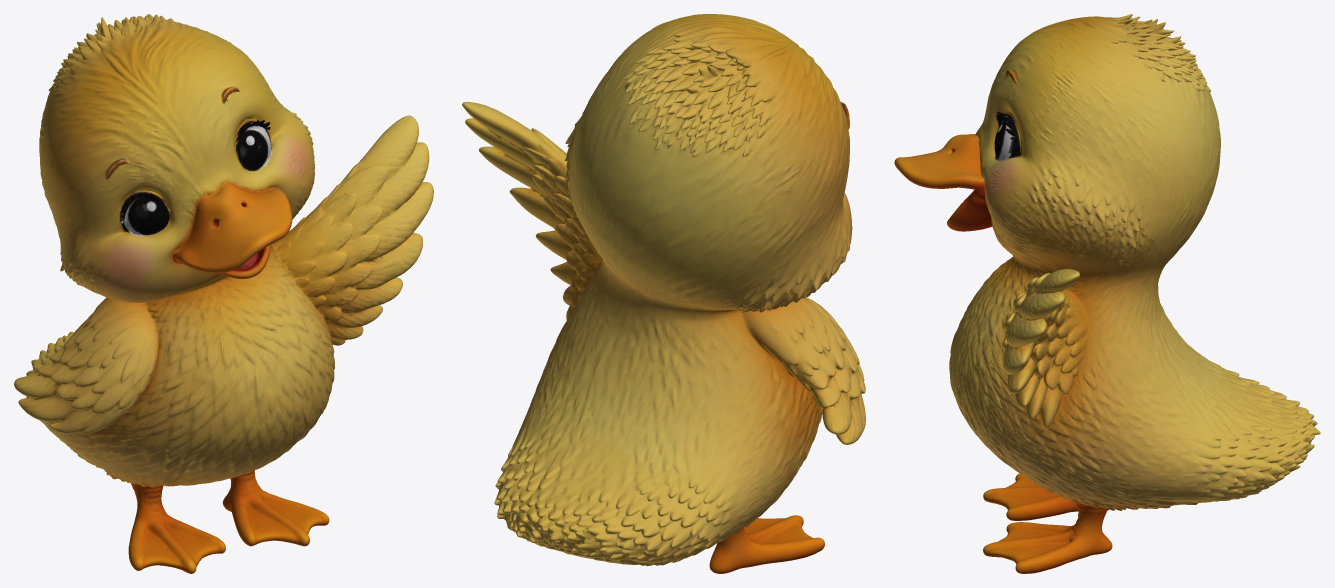
The model's file is paperella.glb.
3 views of the same model, side by side, from view 1: azimuth 30°, elevation 25°; view 2: azimuth 150°, elevation 25°; view 3: azimuth 270°, elevation 25° (orthographic). The views are drawn at different scales.
Parts seen in each view (by area): view 1: tripo_node_c382d074-0e3b-4a19-bf37-97570ead96f3; view 2: tripo_node_c382d074-0e3b-4a19-bf37-97570ead96f3; view 3: tripo_node_c382d074-0e3b-4a19-bf37-97570ead96f3.
Part boxes in pixels (box(x1,y1,x2,y2)): tripo_node_c382d074-0e3b-4a19-bf37-97570ead96f3: box(14, 14, 433, 573); tripo_node_c382d074-0e3b-4a19-bf37-97570ead96f3: box(462, 14, 865, 573); tripo_node_c382d074-0e3b-4a19-bf37-97570ead96f3: box(894, 14, 1320, 573).
Size of the model in its own units: 0.7804 by 0.9794 by 0.7726.
Materials: 1 (1 with a texture image).
